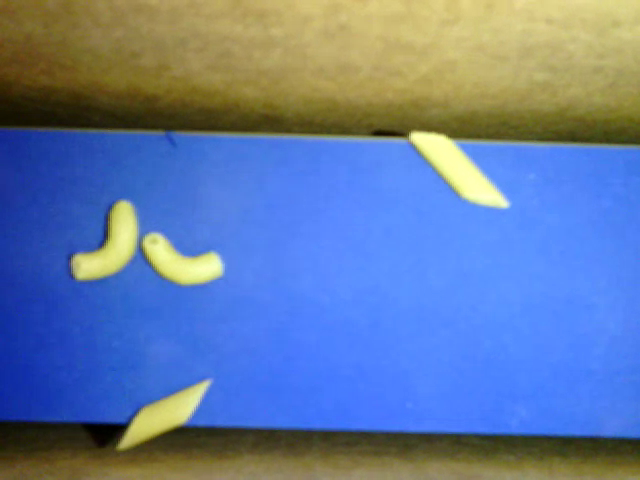elbow: (68, 200, 139, 280), (142, 231, 223, 285)
penne: (407, 129, 509, 208), (116, 378, 211, 451)
